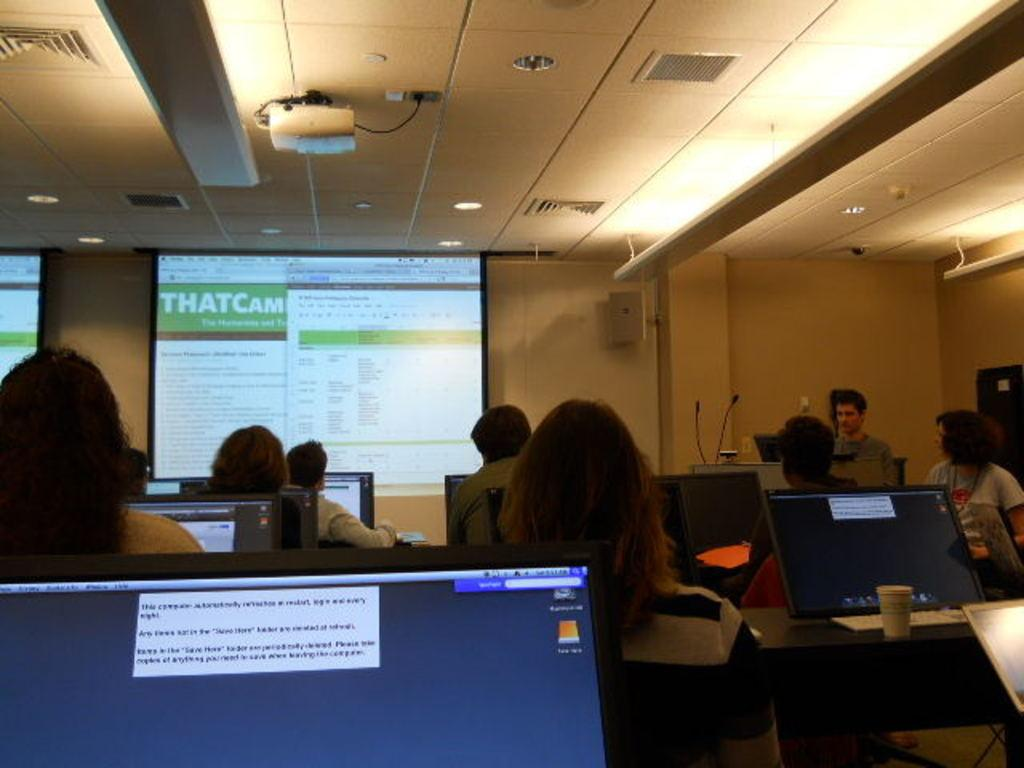Computer-monitor: (22, 539, 643, 741), (755, 490, 1000, 624), (648, 467, 776, 573), (101, 488, 304, 544), (286, 461, 381, 528), (430, 462, 491, 538), (486, 483, 550, 546), (131, 467, 227, 499)
